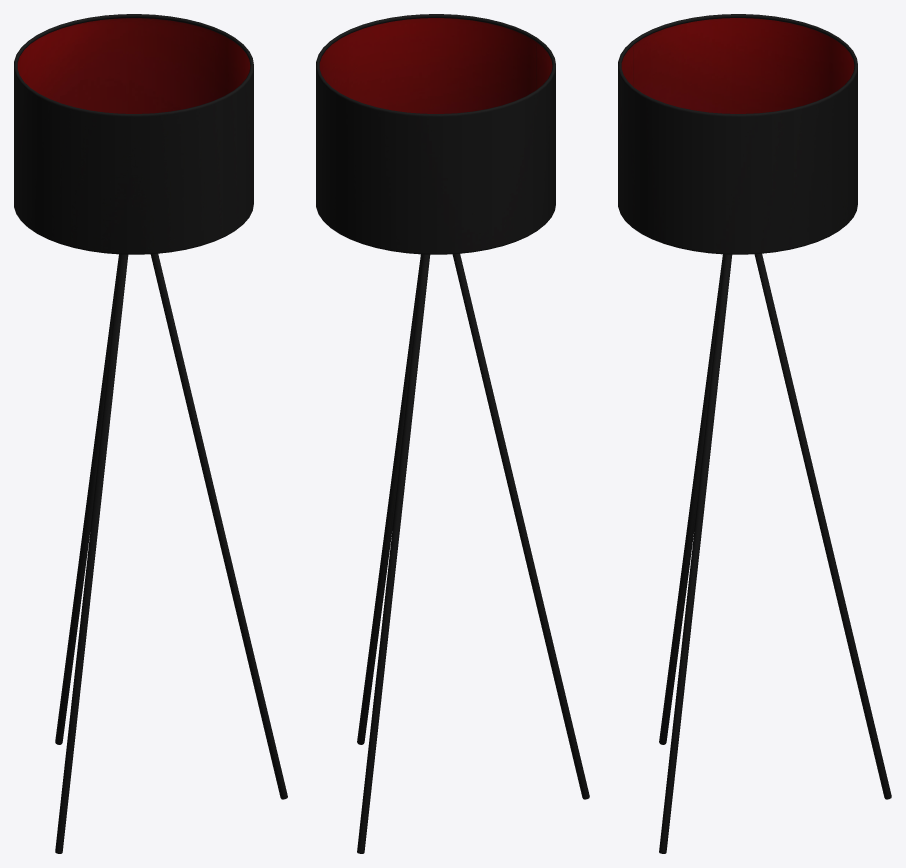
File: floor lamp_1_1.glb
3 renders of one model, left to right at view 1: azimuth 30°, elevation 25°; view 2: azimuth 150°, elevation 25°; view 3: azimuth 270°, elevation 25°, orthographic.
Visible parts, largest first — view 1: LAMP_SHADE, COPPER, MATT_GREY; view 2: LAMP_SHADE, COPPER, MATT_GREY; view 3: LAMP_SHADE, COPPER, MATT_GREY.
Boxes of the visible parts, box(x1,y1,x2,y2) form: LAMP_SHADE: box(14, 14, 253, 254); COPPER: box(17, 18, 250, 113); MATT_GREY: box(55, 253, 287, 853); LAMP_SHADE: box(316, 14, 555, 254); COPPER: box(319, 18, 552, 113); MATT_GREY: box(357, 253, 589, 853); LAMP_SHADE: box(618, 14, 857, 254); COPPER: box(621, 18, 854, 113); MATT_GREY: box(659, 253, 891, 853).
Size of what is drawn, in the model's own units: 50.21 by 152 by 51.35.
Materials: 4 (3 with a texture image).
